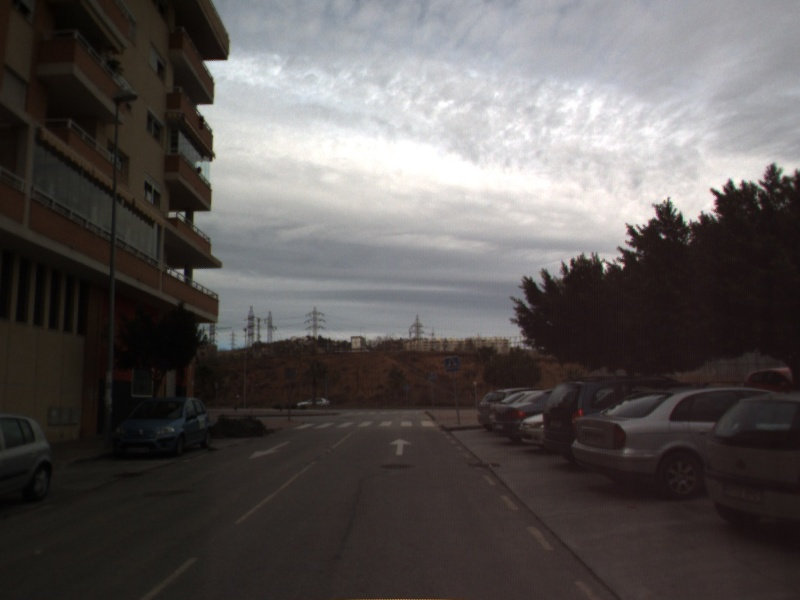STRAIGHT: (387, 436, 414, 457)
